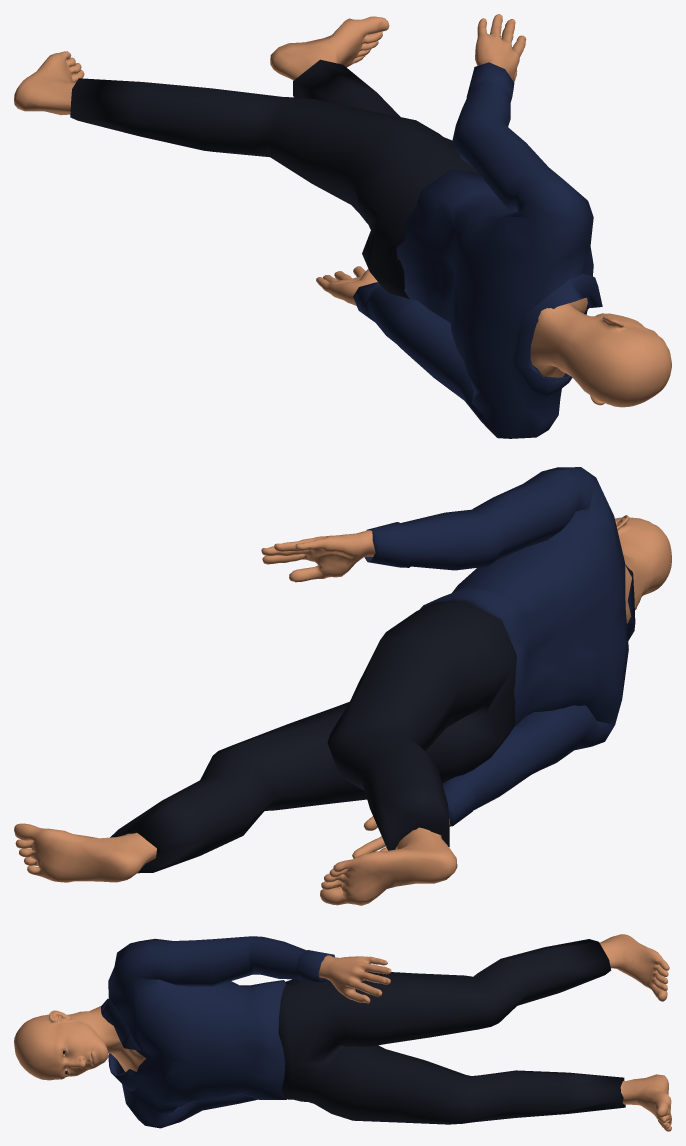
Rendered from walk.obj.
3 views of the same model, one above another, from view 1: azimuth 30°, elevation 25°; view 2: azimuth 150°, elevation 25°; view 3: azimuth 270°, elevation 25° (orthographic). The views are drawn at different scales.
Bounding box in the file's own units: 0.8664 × 0.5736 × 1.66.
